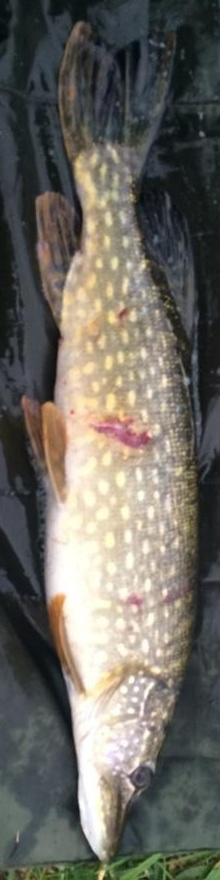Esox lucius: (20, 20, 200, 860)
